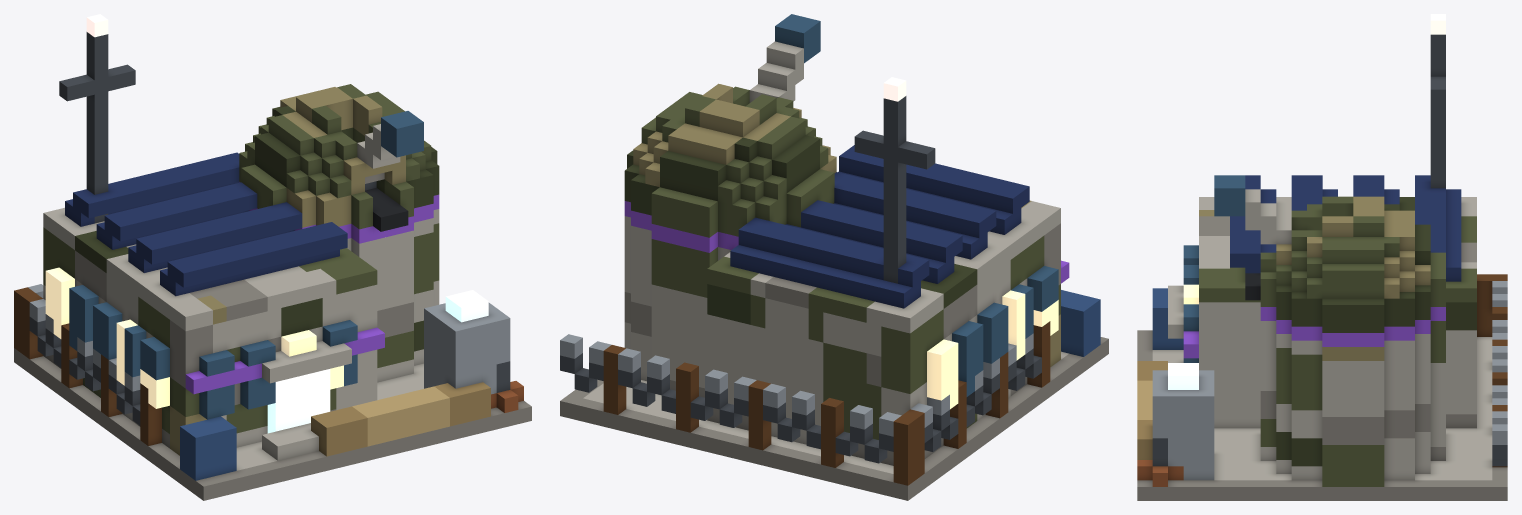
File: cm_lab_4.glb
The picture shows the model from 3 angles, left to right: view 1: azimuth 30°, elevation 25°; view 2: azimuth 150°, elevation 25°; view 3: azimuth 270°, elevation 25°; orthographic projection. The views are drawn at different scales.
Visible parts, largest first — view 1: cm_lab_4_body; view 2: cm_lab_4_body; view 3: cm_lab_4_body.
Boxes of the visible parts, x1,y1,x2,y2 form: cm_lab_4_body: (14,14,531,500); cm_lab_4_body: (560,14,1108,500); cm_lab_4_body: (1137,14,1507,500).
Size of the model in its own units: 1.5 by 1.56 by 1.5.
1 material, 1 textured.
